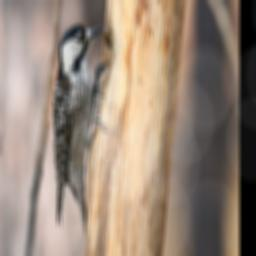Woodpecker: (53, 22, 110, 234)
